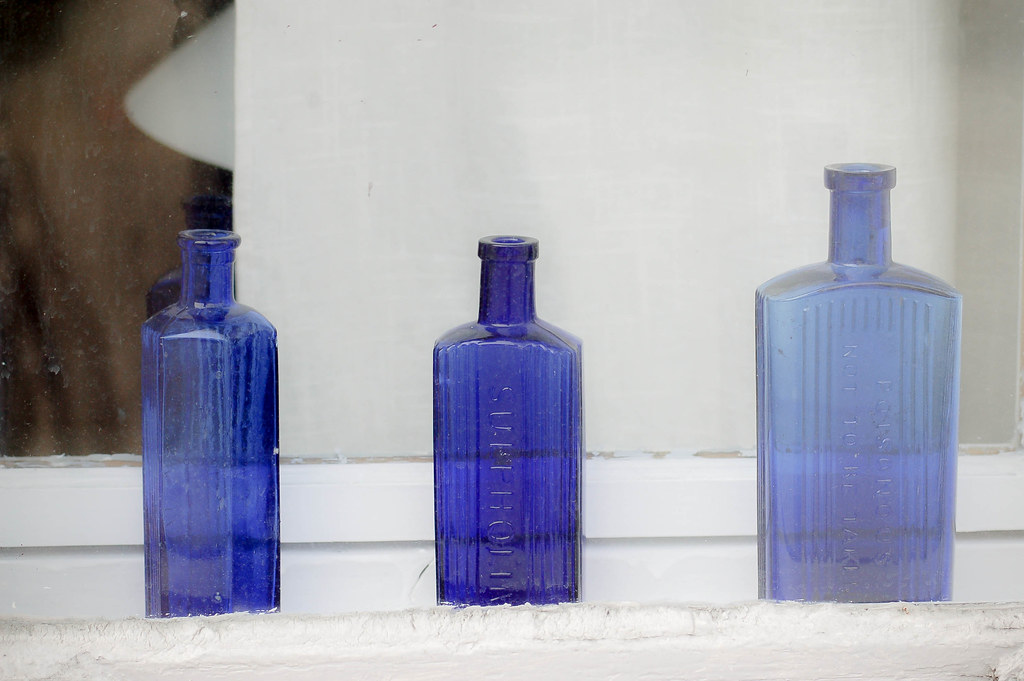bottle: (747, 124, 968, 605), (133, 214, 322, 616), (424, 199, 608, 605)
